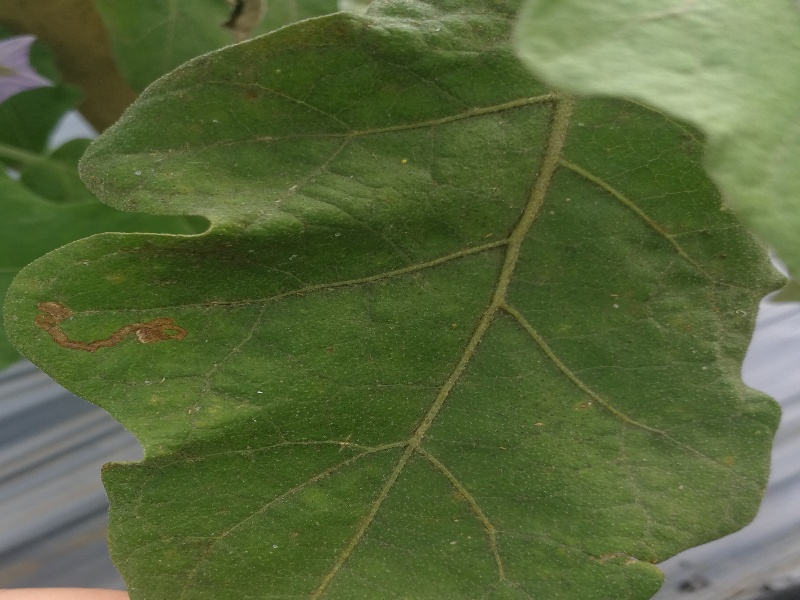leafminer: (30, 295, 193, 357)
